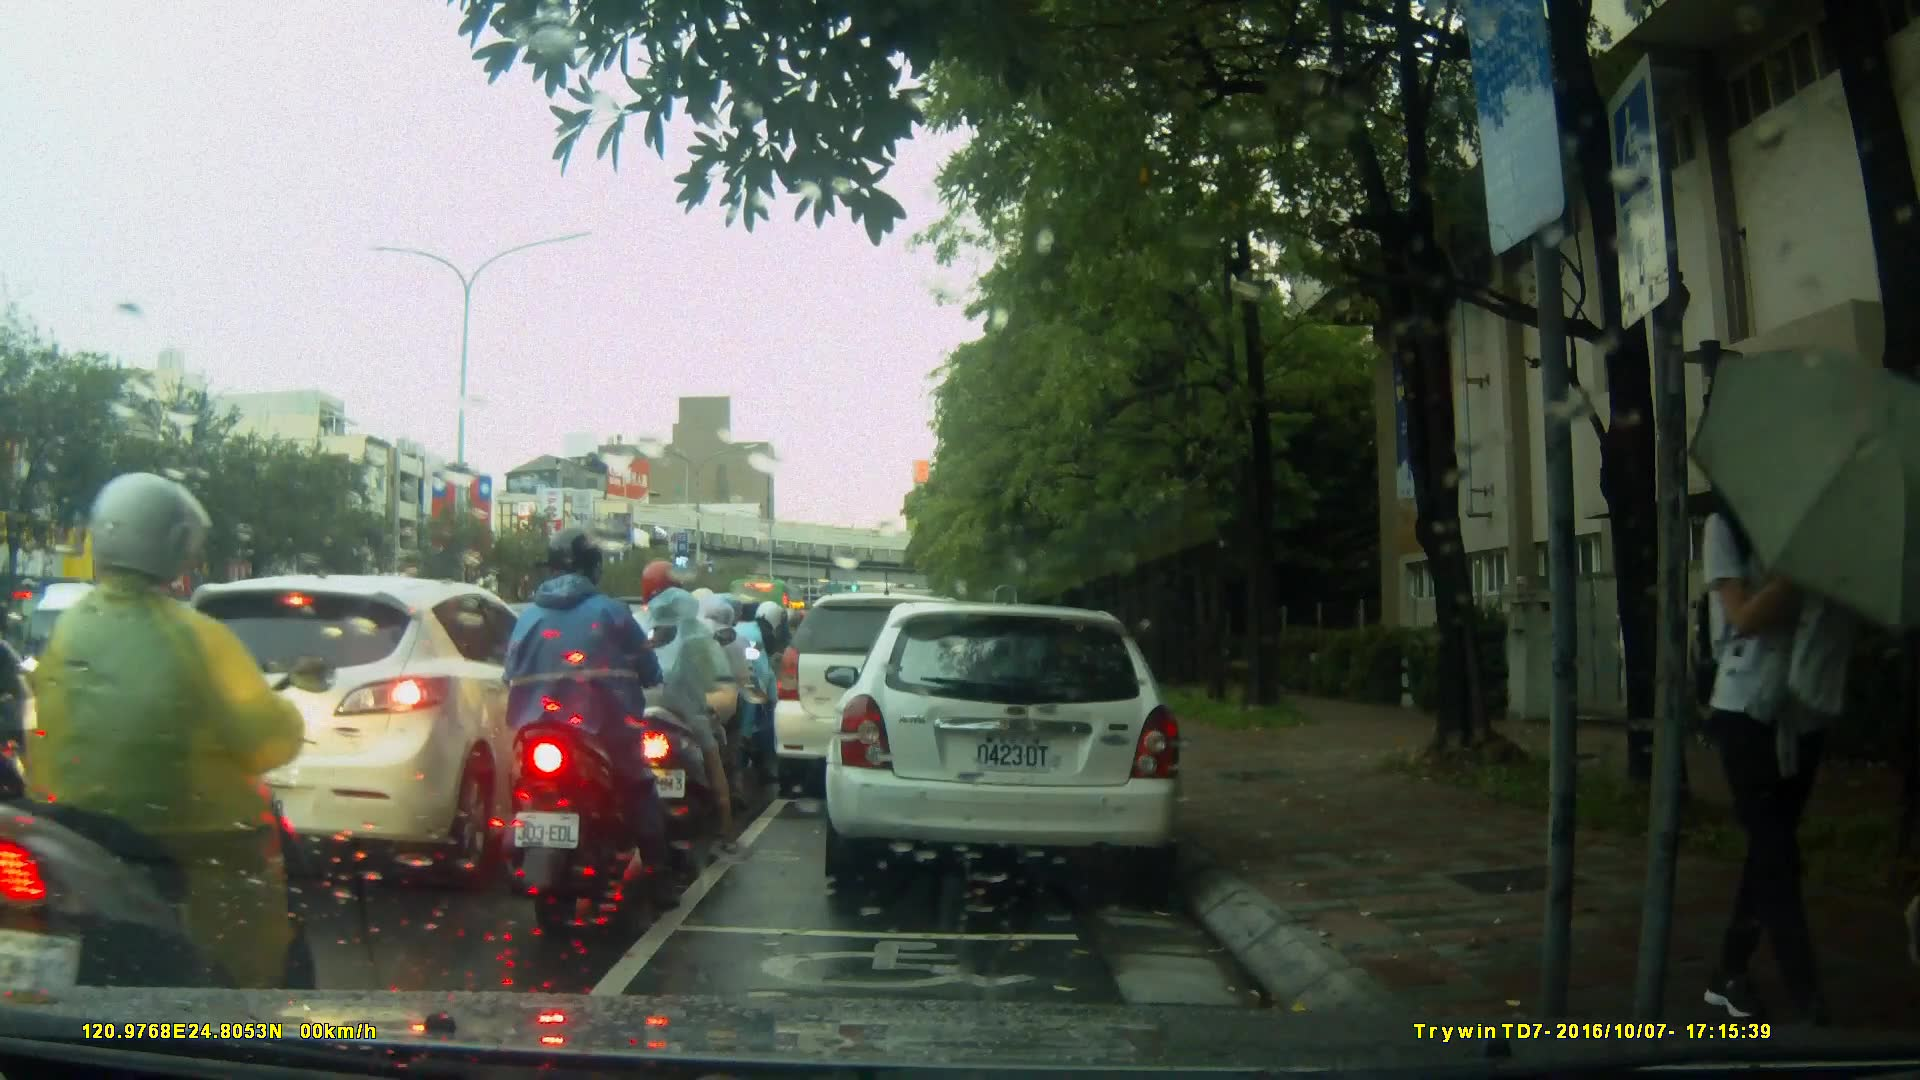pedestrian: (1684, 415, 1844, 1010)
rider: (7, 467, 316, 1074), (492, 524, 682, 926), (598, 560, 741, 860), (642, 581, 764, 823), (718, 594, 788, 767)
vehicle: (122, 571, 588, 882), (822, 604, 1188, 883), (774, 595, 995, 802), (54, 600, 298, 740)
